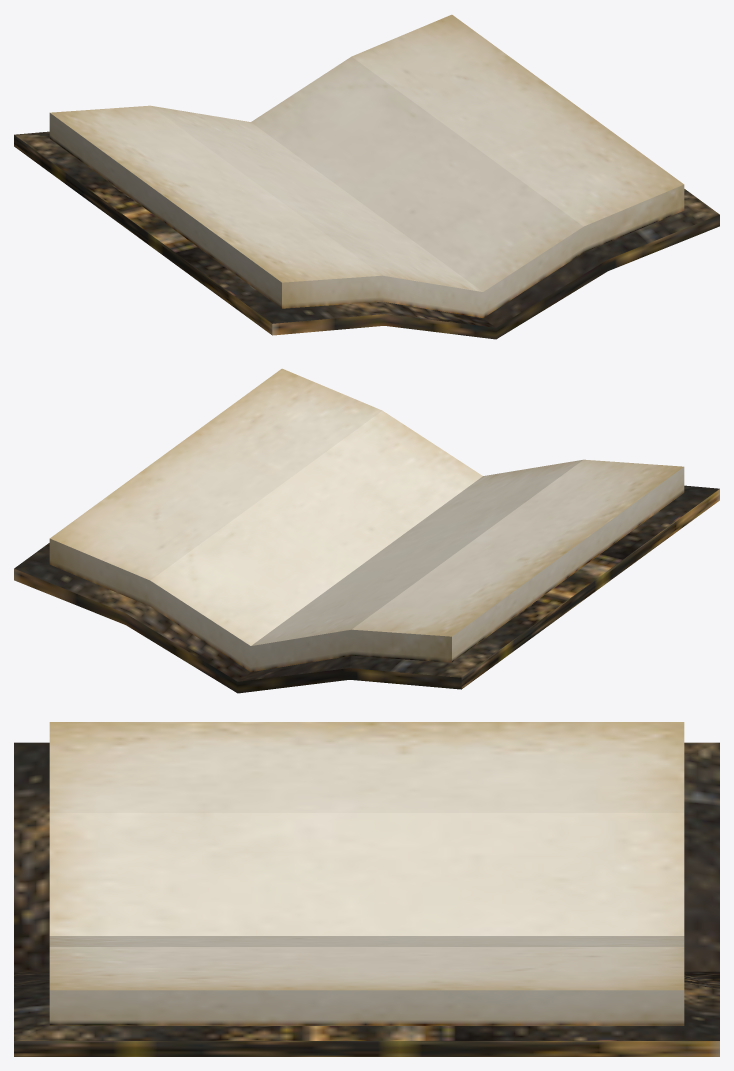
The model's file is old_book.fbx.
3 renders of one model, top to bottom at view 1: azimuth 30°, elevation 25°; view 2: azimuth 150°, elevation 25°; view 3: azimuth 270°, elevation 25°, orthographic. The views are drawn at different scales.
Visible parts, largest first — view 1: Cube; view 2: Cube; view 3: Cube.
Boxes of the visible parts, box(x1,y1,x2,y2) form: Cube: box(14, 14, 719, 339); Cube: box(14, 368, 719, 693); Cube: box(14, 722, 719, 1056).
Size of the model in its own units: 200 by 41.14 by 200.
